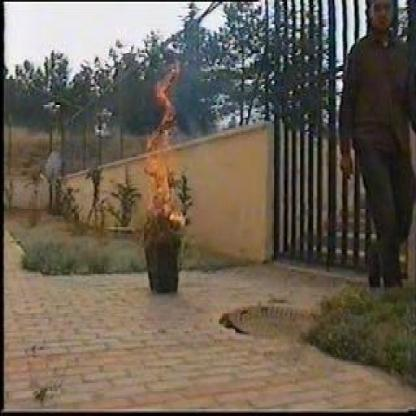foggia-v2-map80-epoch100 - v1 4323: (138, 59, 184, 211)
